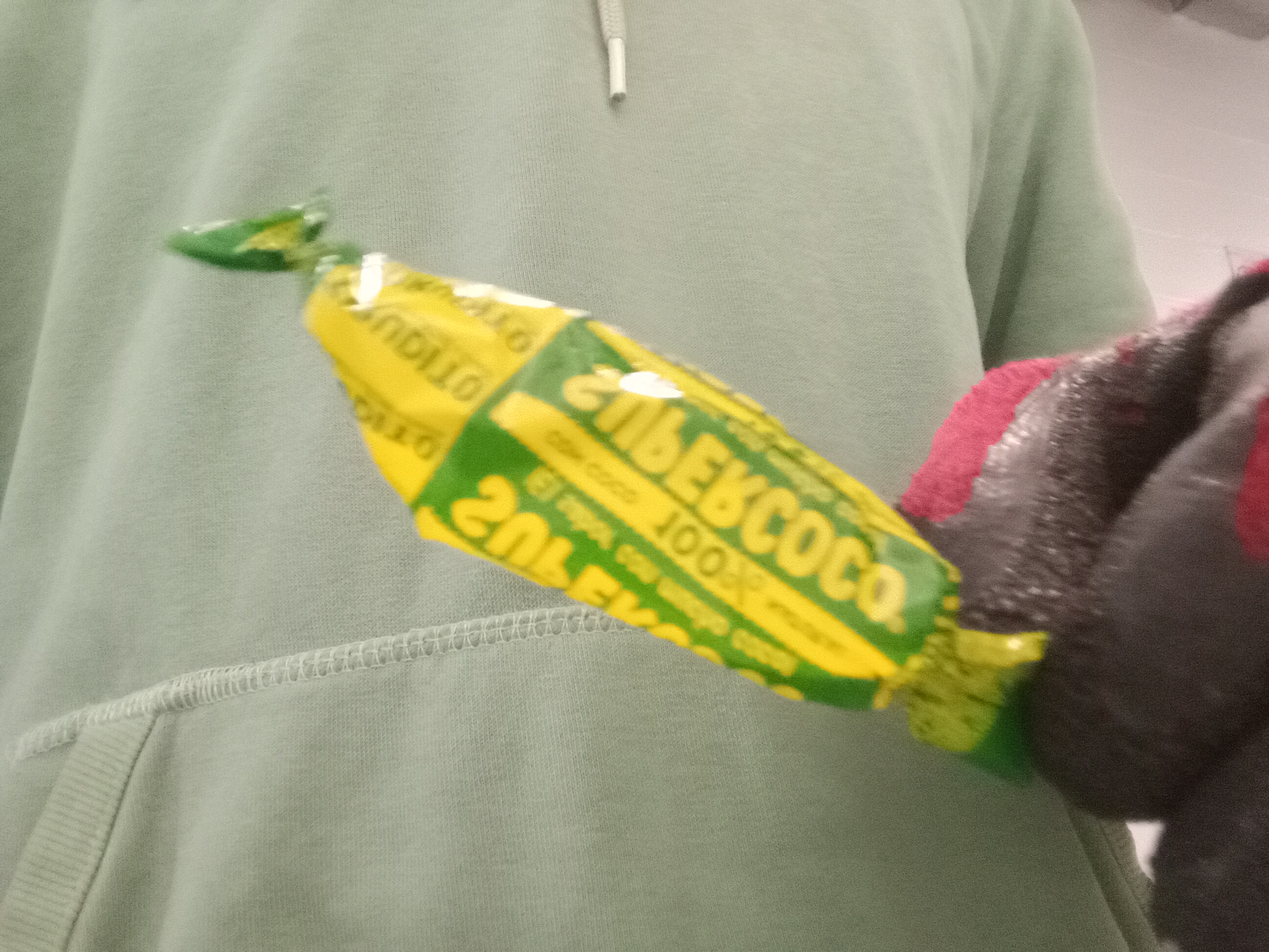Ordinario: (167, 190, 1047, 787)
